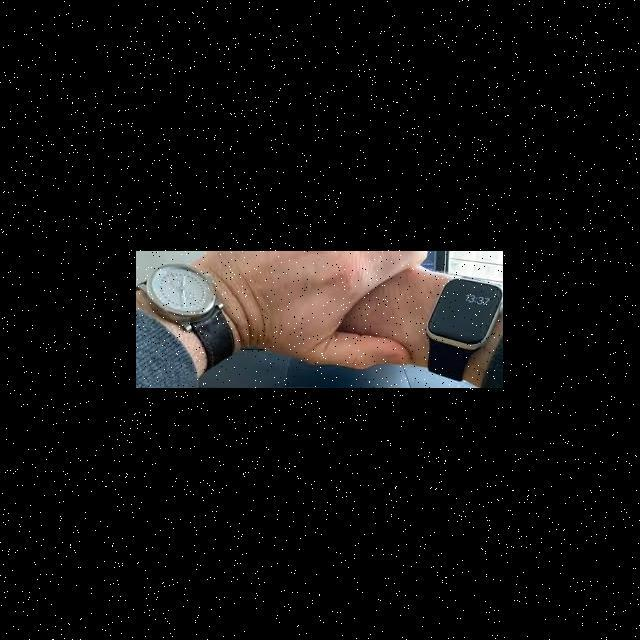watch: (142, 246, 242, 386), (412, 262, 502, 388)
